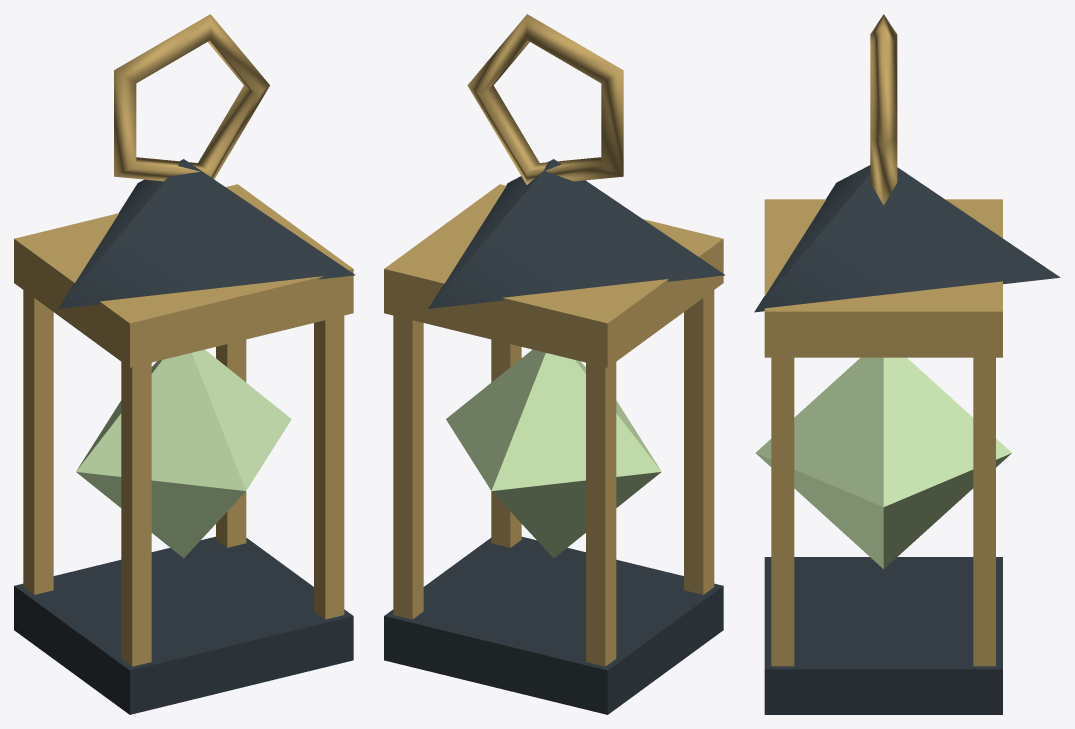
File: fixed-lantern-lod2.glb
The picture shows the model from 3 angles, left to right: view 1: azimuth 30°, elevation 25°; view 2: azimuth 150°, elevation 25°; view 3: azimuth 270°, elevation 25°; orthographic projection. The views are drawn at different scales.
Parts seen in each view (by area): view 1: piece_whole; view 2: piece_whole; view 3: piece_whole.
Boxes of the visible parts, x1,y1,x2,y2 form: piece_whole: [14, 14, 355, 714]; piece_whole: [384, 14, 725, 714]; piece_whole: [754, 14, 1060, 714].
Bounding box in the file's own units: 0.3382 × 0.774 × 0.3346.
